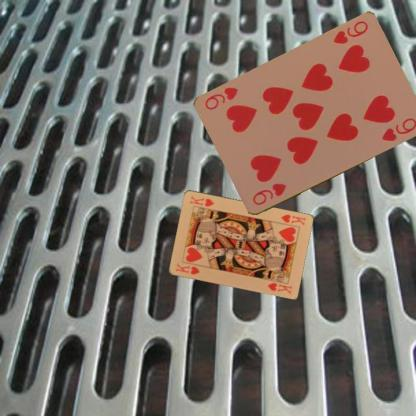9h: (330, 19, 369, 46), (250, 181, 288, 207)
Kh: (278, 212, 307, 227), (173, 261, 200, 276)
